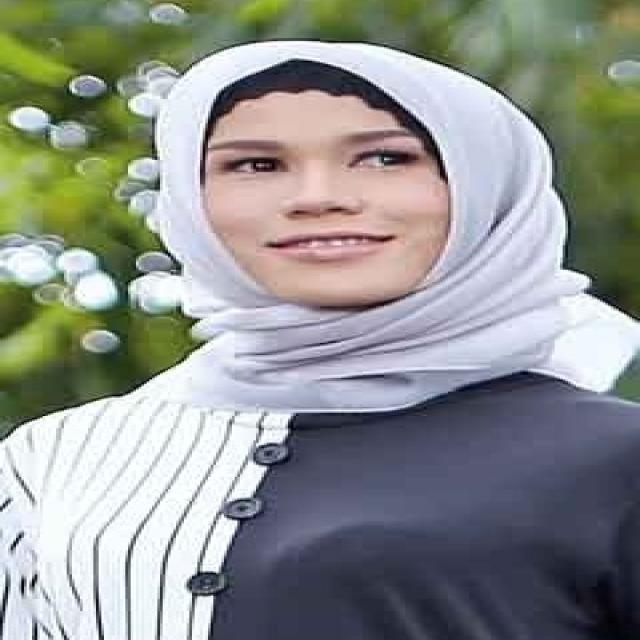head: (150, 44, 534, 323)
